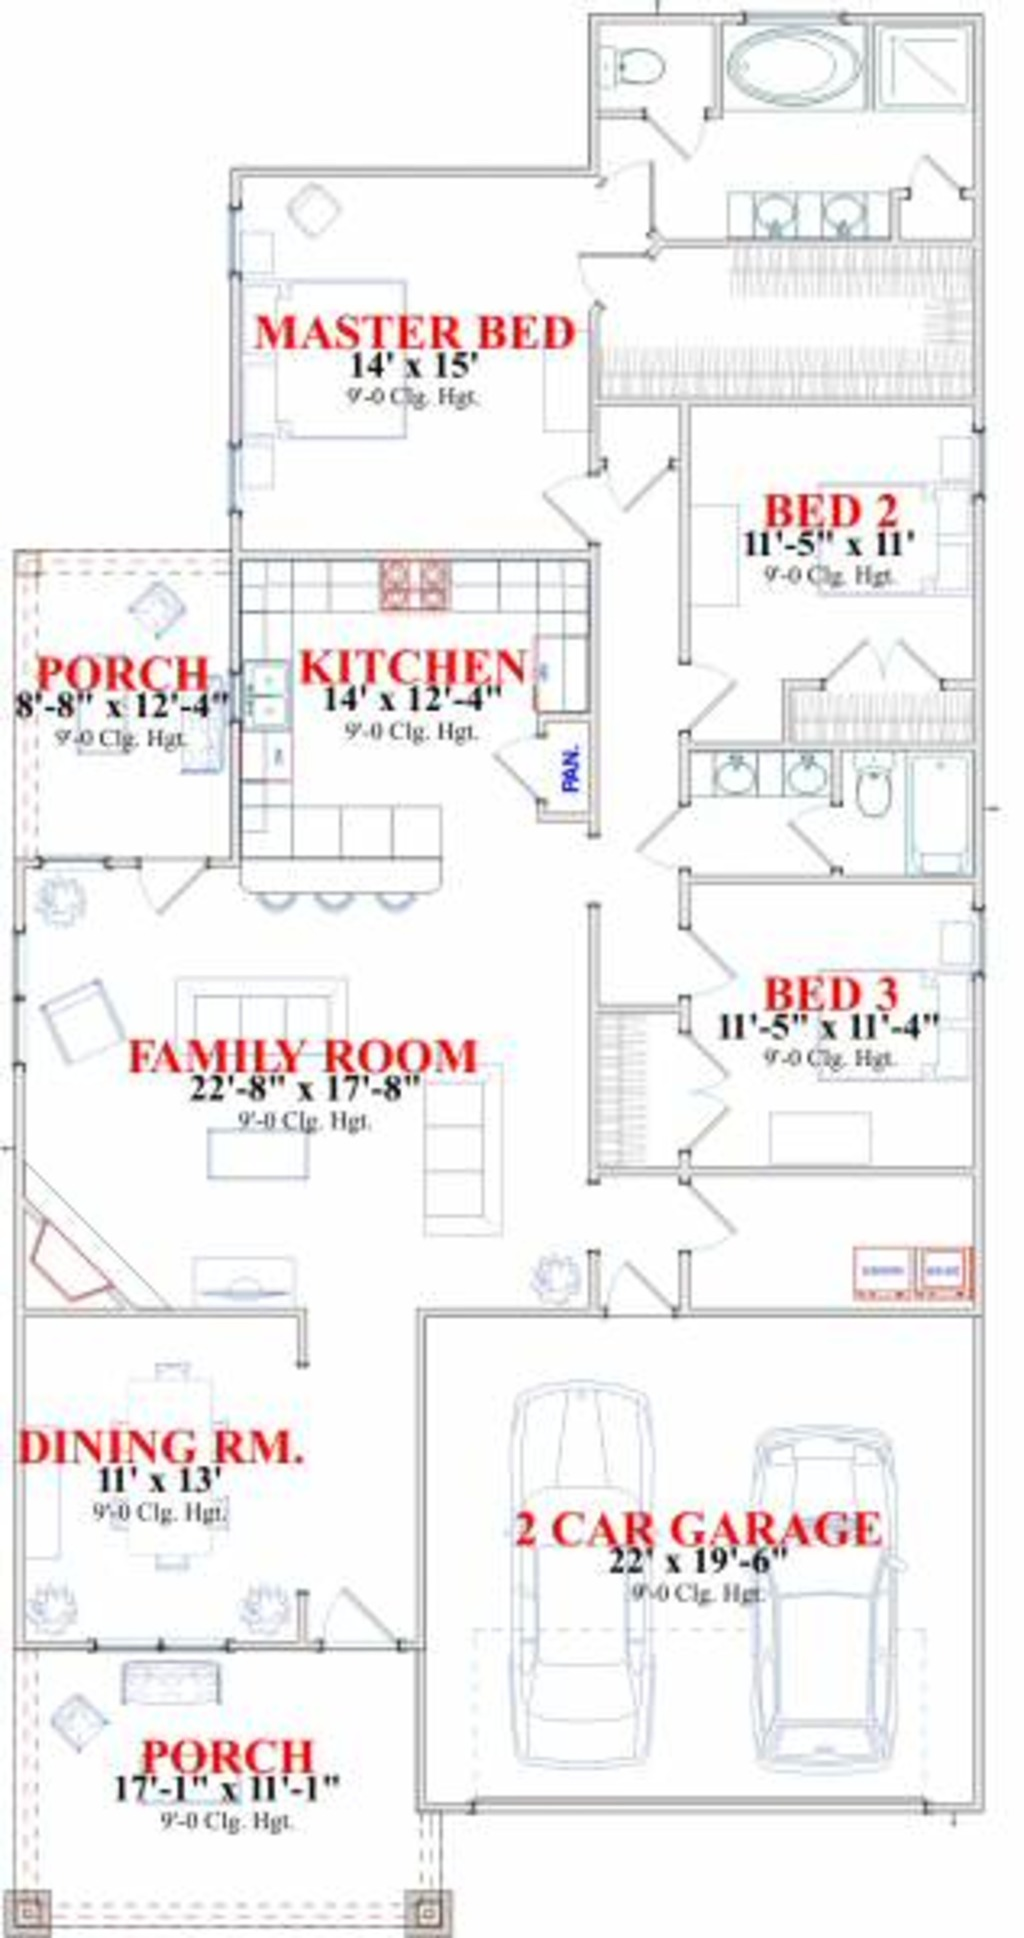bed: (215, 270, 436, 443), (791, 461, 995, 609), (775, 955, 986, 1091)
dining_table: (91, 1346, 238, 1586)
door: (666, 1037, 736, 1152), (584, 429, 675, 511), (593, 158, 678, 244), (609, 1255, 697, 1330), (320, 1573, 406, 1650), (822, 627, 945, 679), (536, 467, 609, 552), (791, 793, 857, 882), (666, 924, 742, 1000), (657, 1182, 731, 1257), (642, 106, 724, 173), (138, 852, 215, 922), (672, 664, 739, 734), (500, 737, 563, 813), (640, 806, 704, 873), (891, 158, 971, 206)
kitchen_bar: (238, 791, 467, 918)
large_sink: (578, 12, 751, 94), (842, 737, 897, 824)
large_sofa: (142, 948, 369, 1070), (406, 1031, 509, 1248)
small_sink: (727, 179, 909, 246), (700, 743, 848, 800)
small_sofa: (29, 979, 147, 1079)
tub: (706, 6, 875, 124), (906, 740, 988, 884)
twin_sink: (215, 649, 300, 727)
